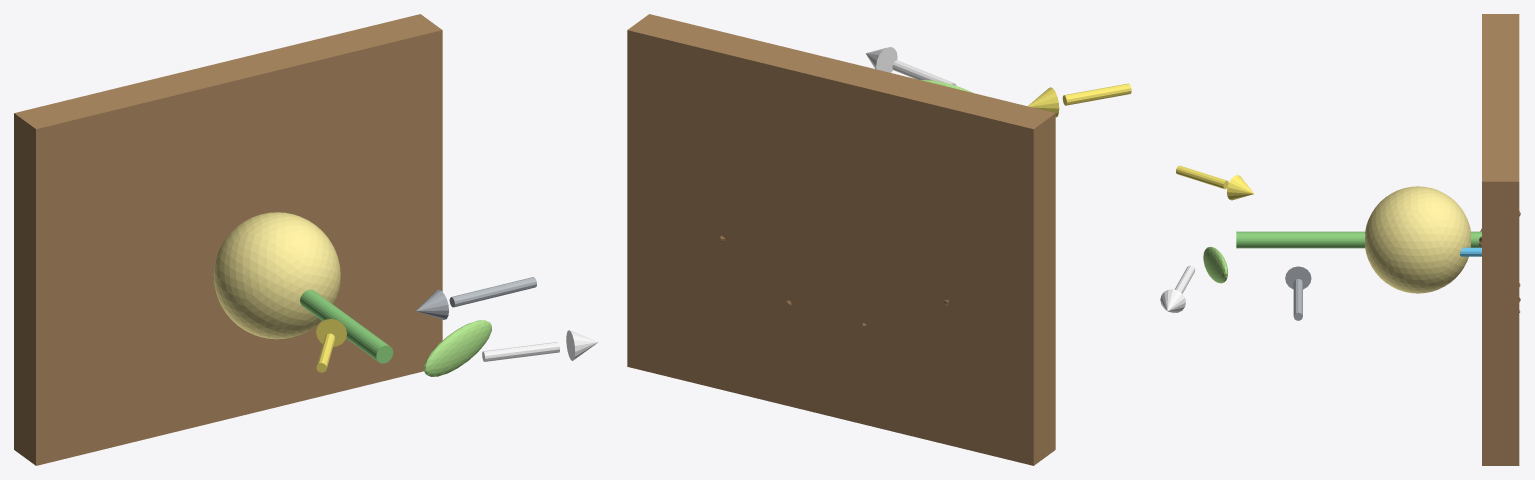
The model's file is photosynthesis_3d.glb.
3 renders of one model, left to right at view 1: azimuth 30°, elevation 25°; view 2: azimuth 150°, elevation 25°; view 3: azimuth 270°, elevation 25°, orthographic. The views are drawn at different scales.
Visible parts, largest first — view 1: Soil, Sun, Leaf, Stem, CO2_shaft, O2_shaft, CO2_head; view 2: Soil, Light_shaft, O2_head, O2_shaft; view 3: Soil, Sun, Stem, Leaf, Light_shaft, O2_head, Light_head, CO2_head, CO2_shaft.
Part boxes in pixels (x1,y1,x2,y2): Soil: (14, 14, 442, 465); Sun: (213, 212, 340, 339); Leaf: (424, 320, 491, 376); Stem: (300, 289, 393, 363); CO2_shaft: (449, 277, 536, 307); O2_shaft: (482, 342, 559, 361); CO2_head: (416, 289, 448, 319); Soil: (627, 14, 1055, 465); Light_shaft: (1062, 83, 1131, 105); O2_head: (866, 47, 897, 72); O2_shaft: (892, 60, 956, 85); Soil: (1482, 14, 1519, 465); Sun: (1365, 186, 1470, 293); Stem: (1236, 231, 1481, 248); Leaf: (1203, 246, 1227, 283); Light_shaft: (1176, 165, 1228, 189); O2_head: (1160, 289, 1185, 313); Light_head: (1227, 175, 1253, 200); CO2_head: (1285, 266, 1311, 289); CO2_shaft: (1293, 279, 1302, 320).
Size of the model in its own units: 4.8 by 3.8 by 4.36.
